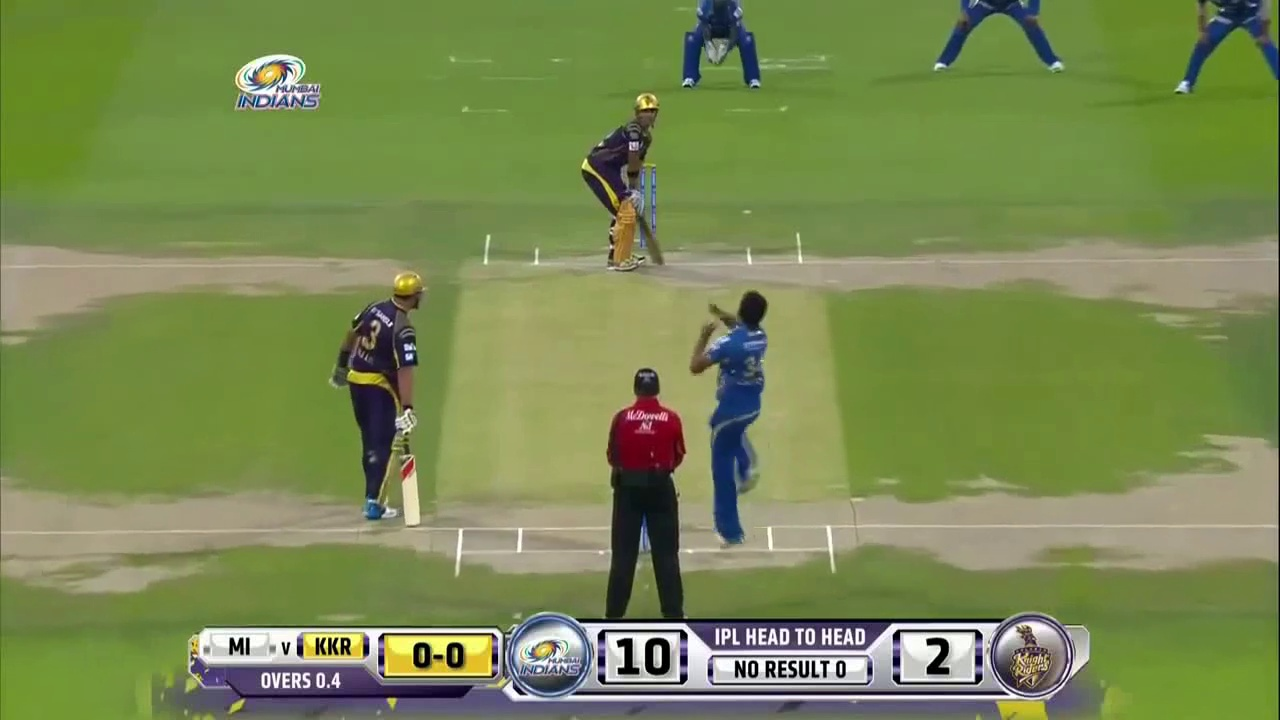bat: (397, 438, 422, 526)
